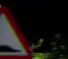Speed Breaker ahead: (1, 5, 32, 58)
